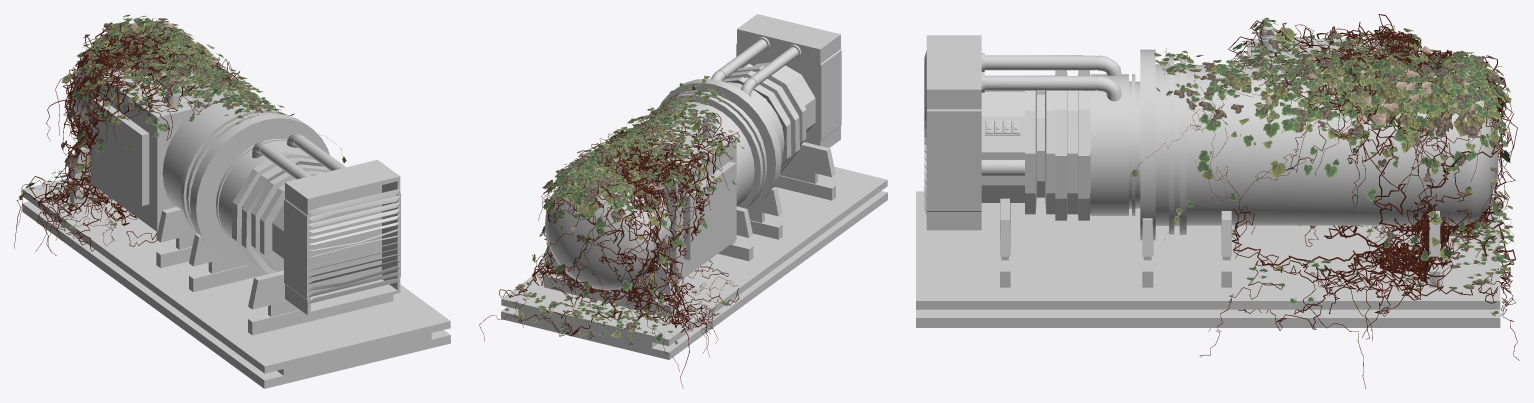
The model's file is electric+generator.fbx.
The picture shows the model from 3 angles, left to right: view 1: azimuth 30°, elevation 25°; view 2: azimuth 150°, elevation 25°; view 3: azimuth 270°, elevation 25°; orthographic projection. The views are drawn at different scales.
Parts seen in each view (by area): view 1: Generator, IvyLeaf, Branches; view 2: Generator, IvyLeaf, Branches; view 3: Generator, IvyLeaf, Branches.
Boxes of the visible parts, box(x1,y1,x2,y2) form: Generator: box(22, 39, 450, 388); IvyLeaf: box(19, 14, 346, 228); Branches: box(14, 23, 344, 255); Generator: box(501, 14, 887, 359); IvyLeaf: box(503, 75, 744, 346); Branches: box(479, 87, 739, 388); Generator: box(916, 26, 1500, 327); IvyLeaf: box(1129, 18, 1514, 316); Branches: box(1132, 14, 1519, 388).
Bounding box in the file's own units: 230 × 234 × 451.
